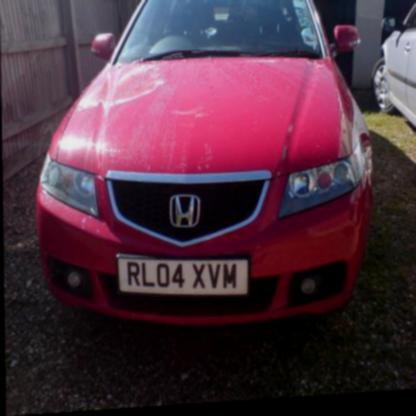License_Plate: (119, 250, 249, 302)
